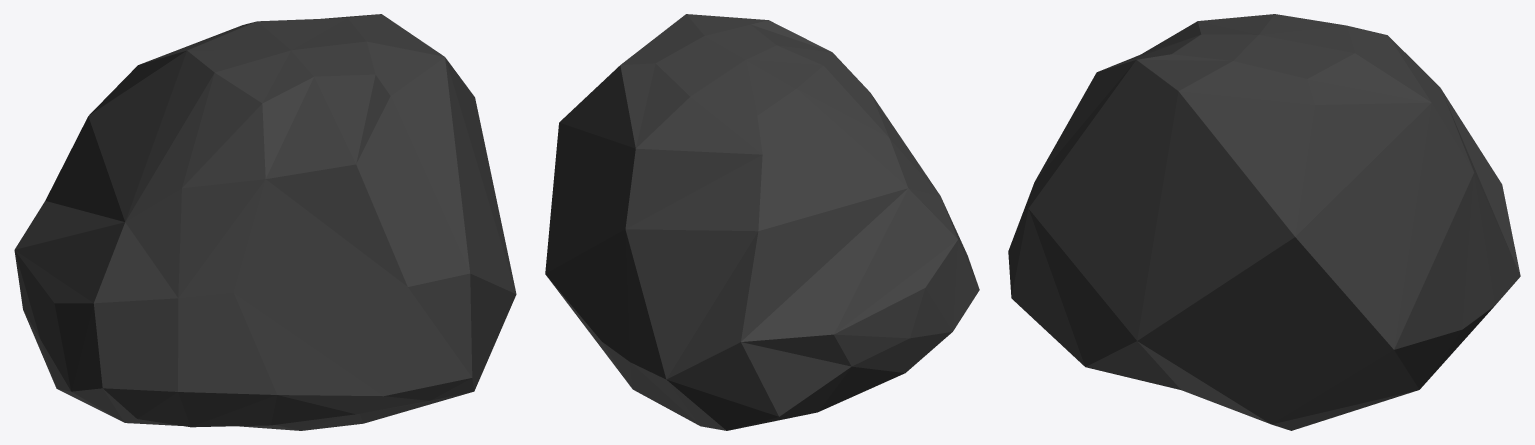
The model's file is First_carpal.glb.
3 views of the same model, side by side, from view 1: azimuth 30°, elevation 25°; view 2: azimuth 150°, elevation 25°; view 3: azimuth 270°, elevation 25° (orthographic). The views are drawn at different scales.
Visible parts, largest first — view 1: First_carpal; view 2: First_carpal; view 3: First_carpal.
Boxes of the visible parts, x1,y1,x2,y2 form: First_carpal: (14, 14, 516, 430); First_carpal: (545, 14, 979, 430); First_carpal: (1008, 14, 1520, 430).
Bounding box in the file's own units: 5.52 × 4.81 × 5.81.
1 material, 1 textured.
